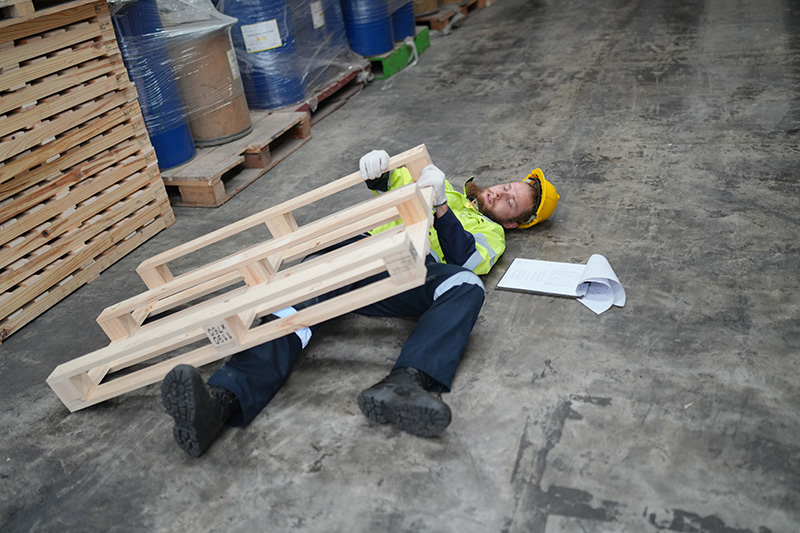Casco de seguridad: (518, 168, 559, 228)
